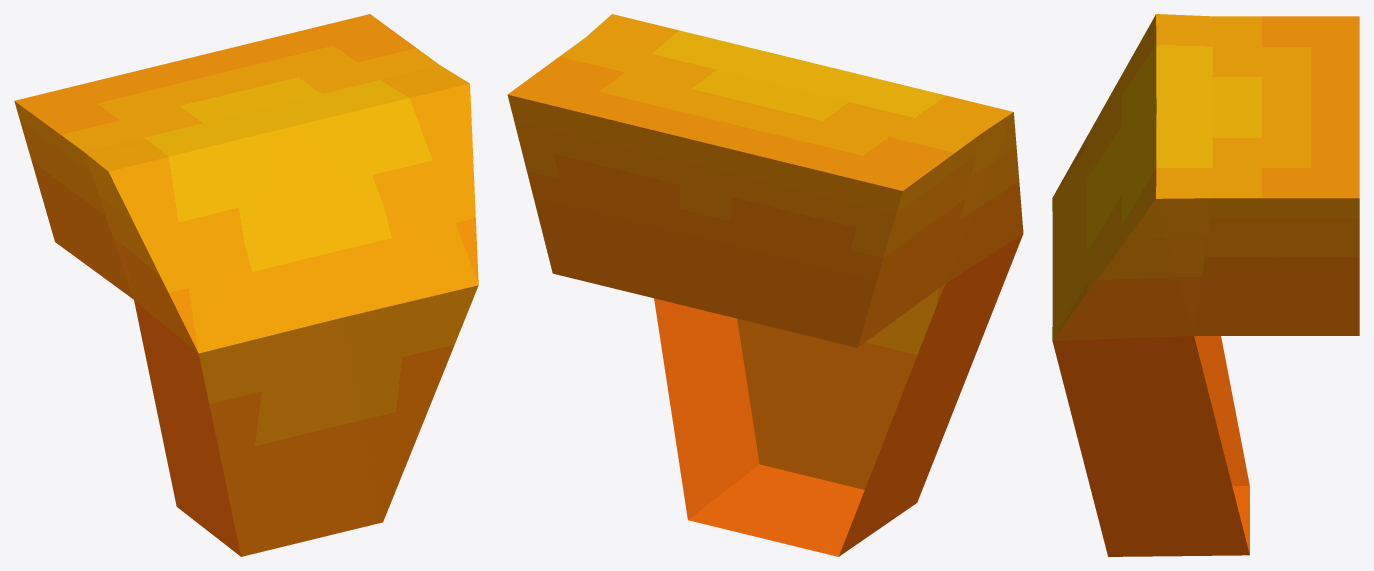
The model's file is MilkywayChevronUpperFront.obj.
3 views of the same model, side by side, from view 1: azimuth 30°, elevation 25°; view 2: azimuth 150°, elevation 25°; view 3: azimuth 270°, elevation 25° (orthographic). The views are drawn at different scales.
Parts seen in each view (by area): view 1: UpperChevronFront; view 2: UpperChevronFront; view 3: UpperChevronFront.
Part boxes in pixels (left/top/right/bottom): UpperChevronFront: left=14, top=14, right=478, bottom=556; UpperChevronFront: left=507, top=14, right=1023, bottom=556; UpperChevronFront: left=1052, top=14, right=1359, bottom=556.
Size of the model in its own units: 0.2597 by 0.2715 by 0.1823.
1 material, 1 textured.
